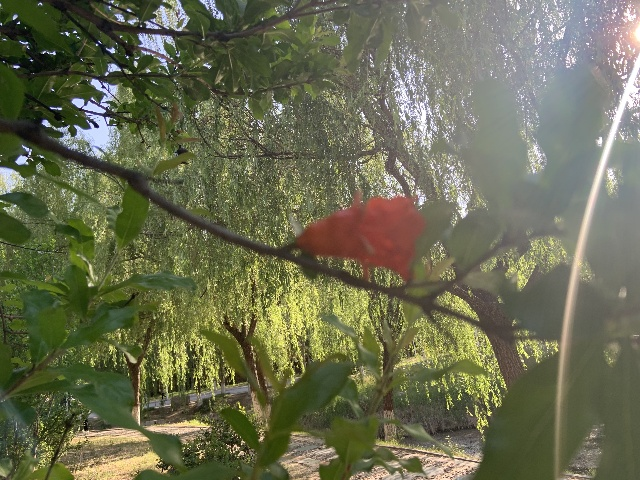flower: (296, 189, 427, 281)
